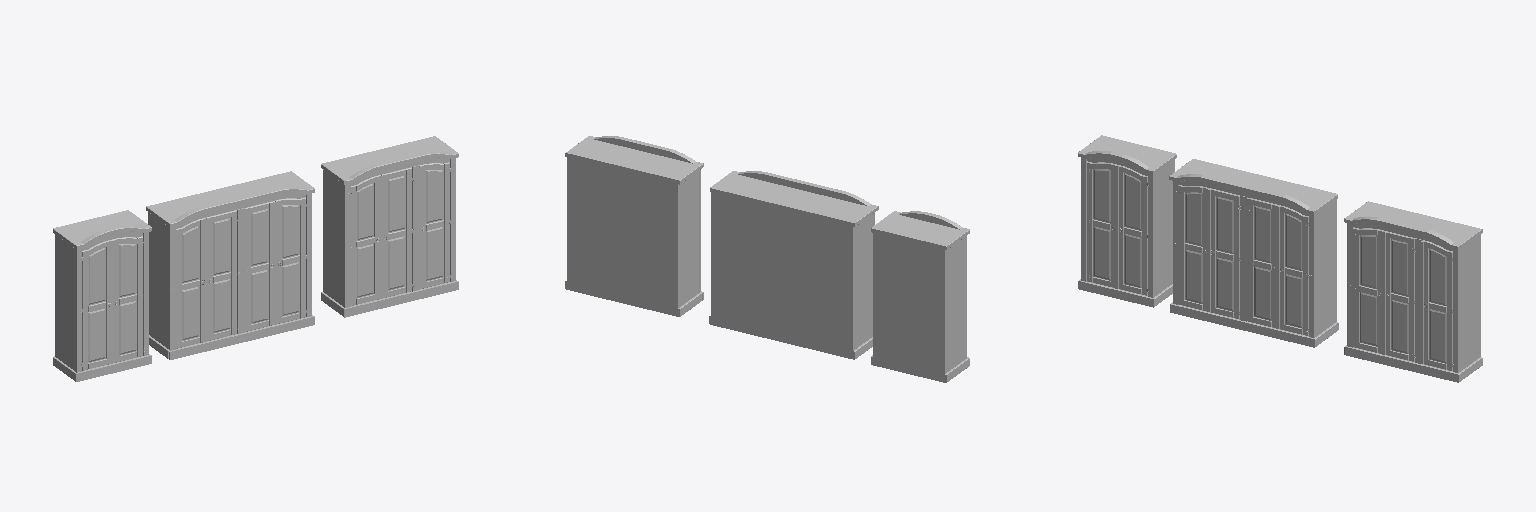
File: Corona Wardrobe Set Blend.obj
The picture shows the model from 3 angles: view 1: azimuth 30°, elevation 25°; view 2: azimuth 150°, elevation 25°; view 3: azimuth 330°, elevation 25°; orthographic projection.
Parts seen in each view (by area): view 1: Cube, Cube.022_Cube.030, Cube.017_Cube.023, Cube.023_Cube.034, Cube.019_Cube.025, Cube.018_Cube.024, Cube.020_Cube.027, Cube.014, Cube.021_Cube.029, Cube.013_Cube.012, Cube.016_Cube.017, Cube.015_Cube.028; view 2: Cube, Cube.022_Cube.030, Cube.017_Cube.023; view 3: Cube, Cube.022_Cube.030, Cube.017_Cube.023, Cube.019_Cube.025, Cube.014, Cube.018_Cube.024, Cube.020_Cube.027, Cube.023_Cube.034, Cube.015_Cube.028, Cube.013_Cube.012, Cube.021_Cube.029, Cube.016_Cube.017.
Boxes of the visible parts, x1=… form: Cube: x1=146, y1=171, x2=314, y2=359; Cube.022_Cube.030: x1=321, y1=136, x2=458, y2=317; Cube.017_Cube.023: x1=53, y1=210, x2=151, y2=381; Cube.023_Cube.034: x1=245, y1=201, x2=276, y2=331; Cube.019_Cube.025: x1=381, y1=167, x2=411, y2=298; Cube.018_Cube.024: x1=206, y1=210, x2=236, y2=341; Cube.020_Cube.027: x1=419, y1=162, x2=449, y2=289; Cube.014: x1=112, y1=236, x2=142, y2=363; Cube.021_Cube.029: x1=351, y1=175, x2=380, y2=305; Cube.013_Cube.012: x1=176, y1=218, x2=205, y2=348; Cube.016_Cube.017: x1=82, y1=240, x2=112, y2=370; Cube.015_Cube.028: x1=275, y1=197, x2=305, y2=323; Cube: x1=709, y1=171, x2=878, y2=359; Cube.022_Cube.030: x1=565, y1=136, x2=703, y2=316; Cube.017_Cube.023: x1=871, y1=211, x2=969, y2=382; Cube: x1=1169, y1=159, x2=1338, y2=347; Cube.022_Cube.030: x1=1344, y1=201, x2=1482, y2=382; Cube.017_Cube.023: x1=1078, y1=135, x2=1176, y2=307; Cube.019_Cube.025: x1=1382, y1=231, x2=1414, y2=361; Cube.014: x1=1115, y1=165, x2=1147, y2=295; Cube.018_Cube.024: x1=1208, y1=188, x2=1239, y2=319; Cube.020_Cube.027: x1=1421, y1=240, x2=1452, y2=370; Cube.023_Cube.034: x1=1247, y1=198, x2=1278, y2=328; Cube.015_Cube.028: x1=1277, y1=205, x2=1308, y2=335; Cube.013_Cube.012: x1=1178, y1=185, x2=1209, y2=311; Cube.021_Cube.029: x1=1353, y1=228, x2=1383, y2=353; Cube.016_Cube.017: x1=1087, y1=161, x2=1116, y2=287.
Size of the model in its own units: 5.06 by 1.81 by 0.5703.